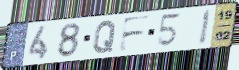4: (26, 24, 50, 62)
5: (155, 13, 183, 50)
8: (57, 22, 83, 59)
F: (117, 14, 153, 54)
I: (197, 8, 213, 47)
Q: (91, 19, 118, 55)
